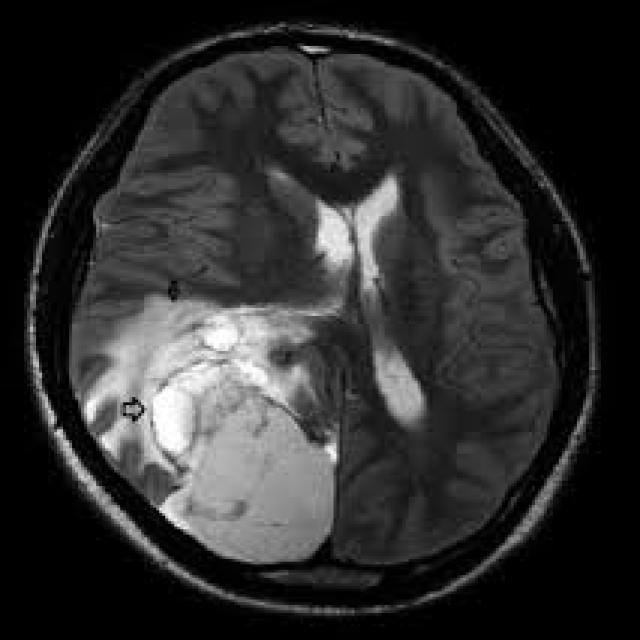tumor: (80, 291, 334, 566)
